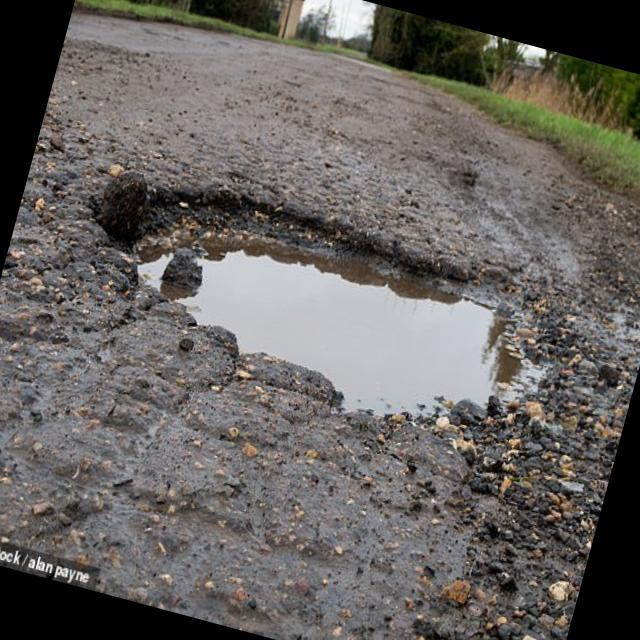Potholes: (89, 150, 536, 451)
